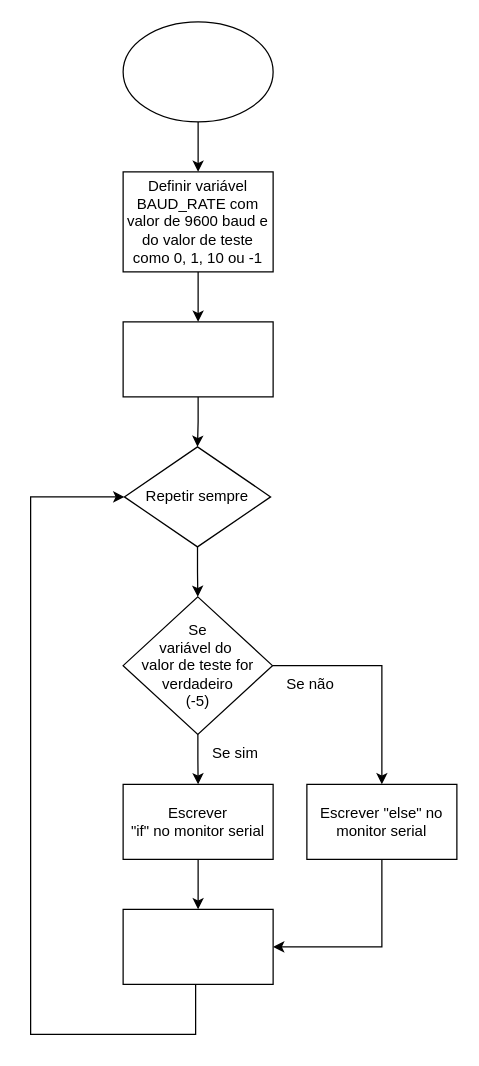
The diagram is 479 pixels wide and 1066 high, and some of its shapes have lost their labels. Each missing label, with the box of its shape:
Definir delay de 100 ms: (122, 908, 273, 984)
Inicializar monitor serial com valor da variável BAUD_RATE: (122, 321, 273, 397)
Início: (122, 21, 273, 122)
